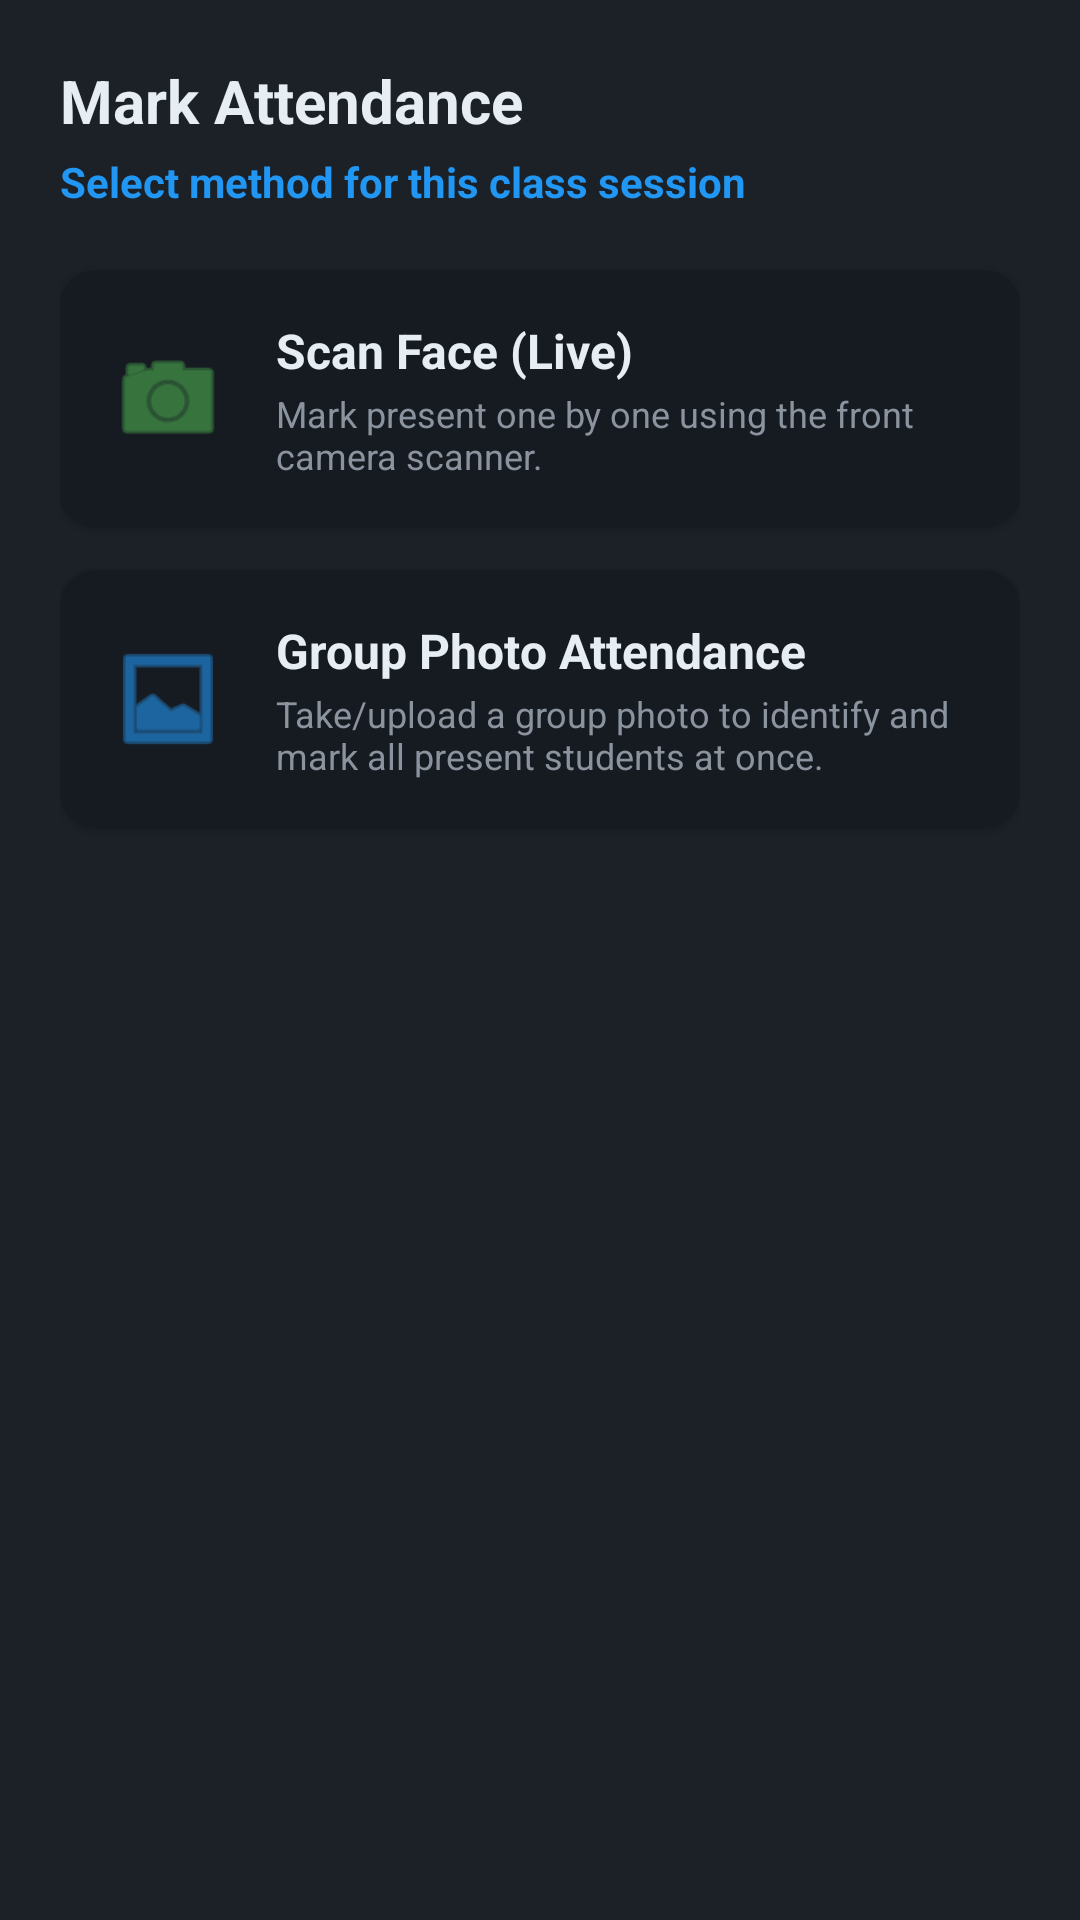

Icon bounding boxes for this 1080*1920 phone screenshot, format (x1, y1, x2, y2):
gallery: (123, 654, 213, 744)
